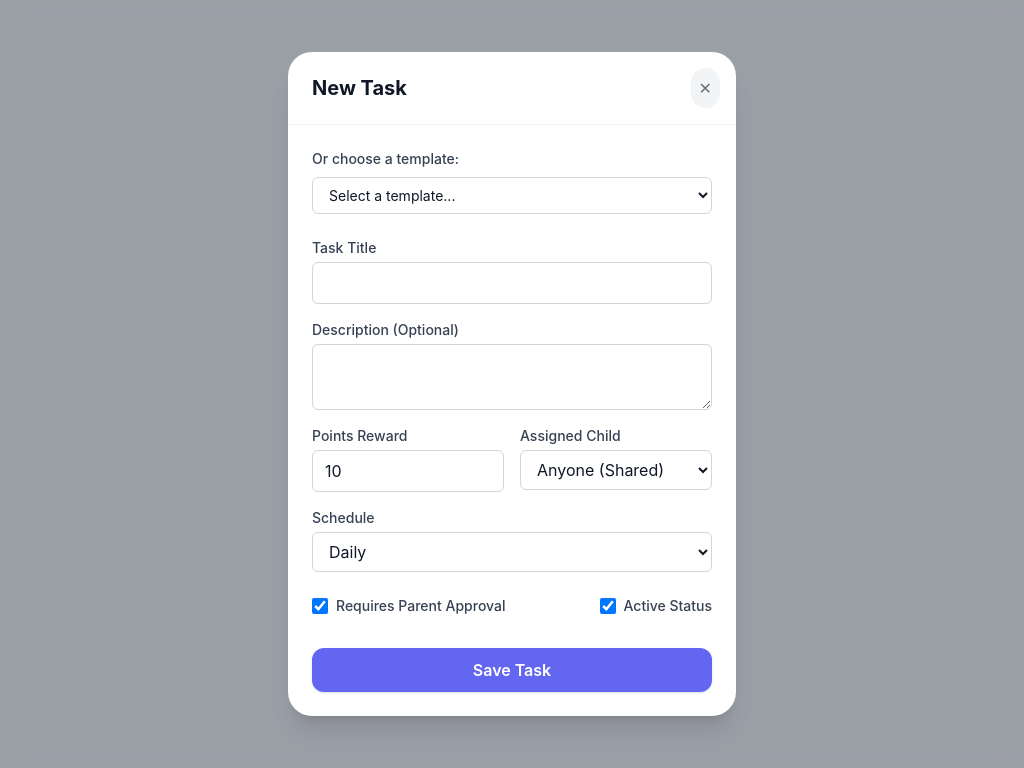
Test: TaskFormModal save behaviour › shows a clear error when the API rejects for missing authentication
The image size is (1024, 768).
Type "Tidy room" into the field at (512, 283), box [312,262,712,304]
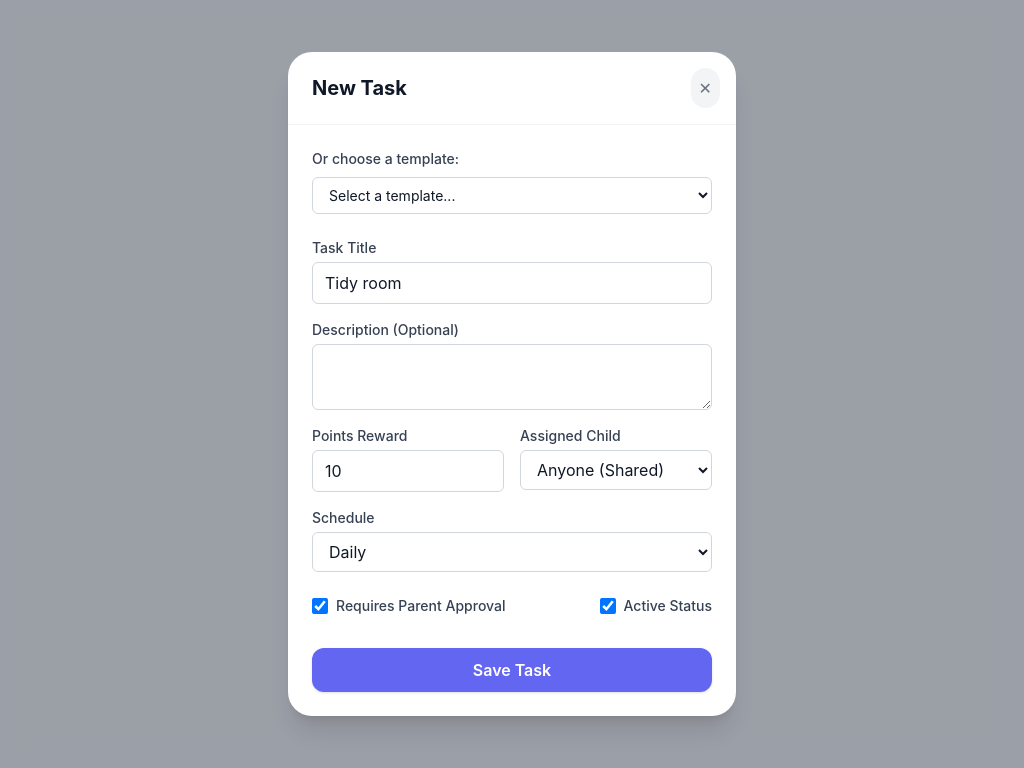
Click the button "Save Task" at (512, 670), box [312,648,712,692]
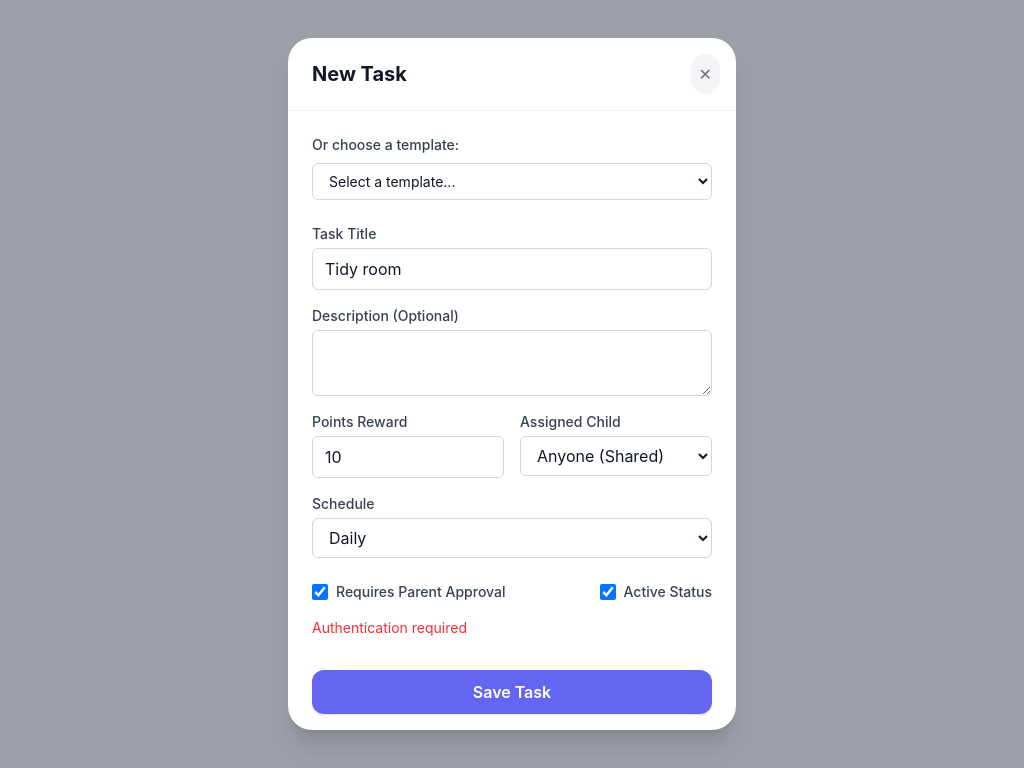
Expected: the text "Authentication required" is shown, [312,619,467,636]
